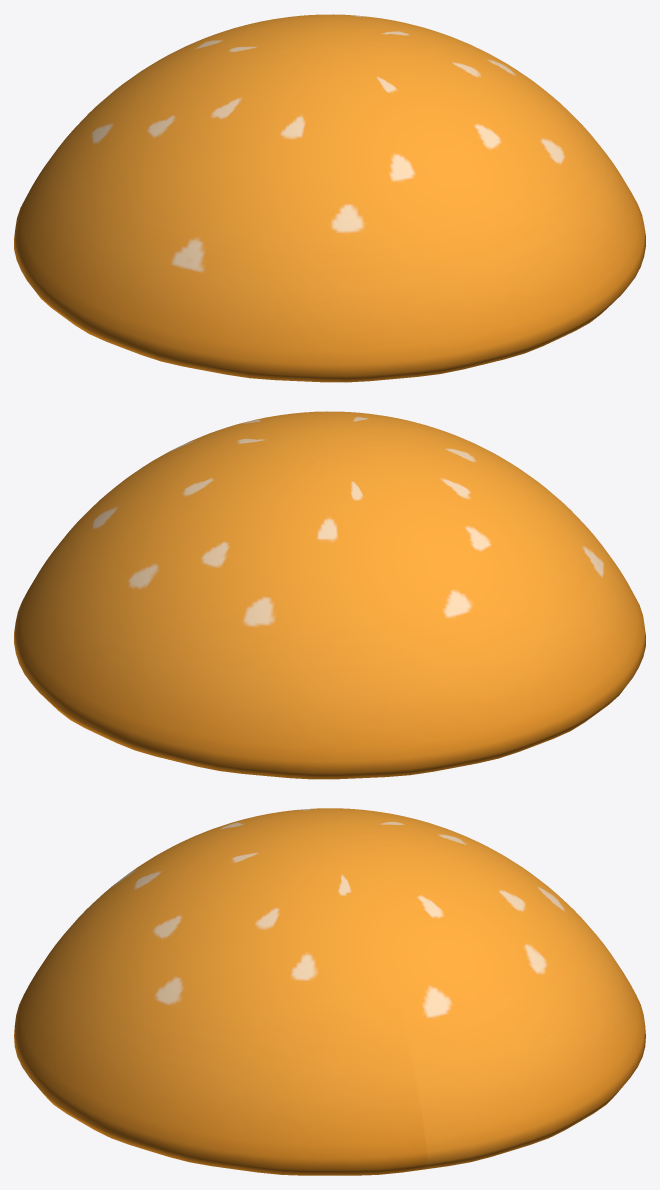
Rendered from TopBun.obj.
3 renders of one model, top to bottom at view 1: azimuth 30°, elevation 25°; view 2: azimuth 150°, elevation 25°; view 3: azimuth 270°, elevation 25°, orthographic.
Parts seen in each view (by area): view 1: pasted__polySurface26 pasted__polySurface18 group13; view 2: pasted__polySurface26 pasted__polySurface18 group13; view 3: pasted__polySurface26 pasted__polySurface18 group13.
Boxes of the visible parts, x1=… form: pasted__polySurface26 pasted__polySurface18 group13: x1=14, y1=14, x2=645, y2=382; pasted__polySurface26 pasted__polySurface18 group13: x1=14, y1=411, x2=645, y2=779; pasted__polySurface26 pasted__polySurface18 group13: x1=14, y1=808, x2=645, y2=1175.
Bounding box in the file's own units: 1.91 × 0.7277 × 1.91.
1 material, 1 textured.
